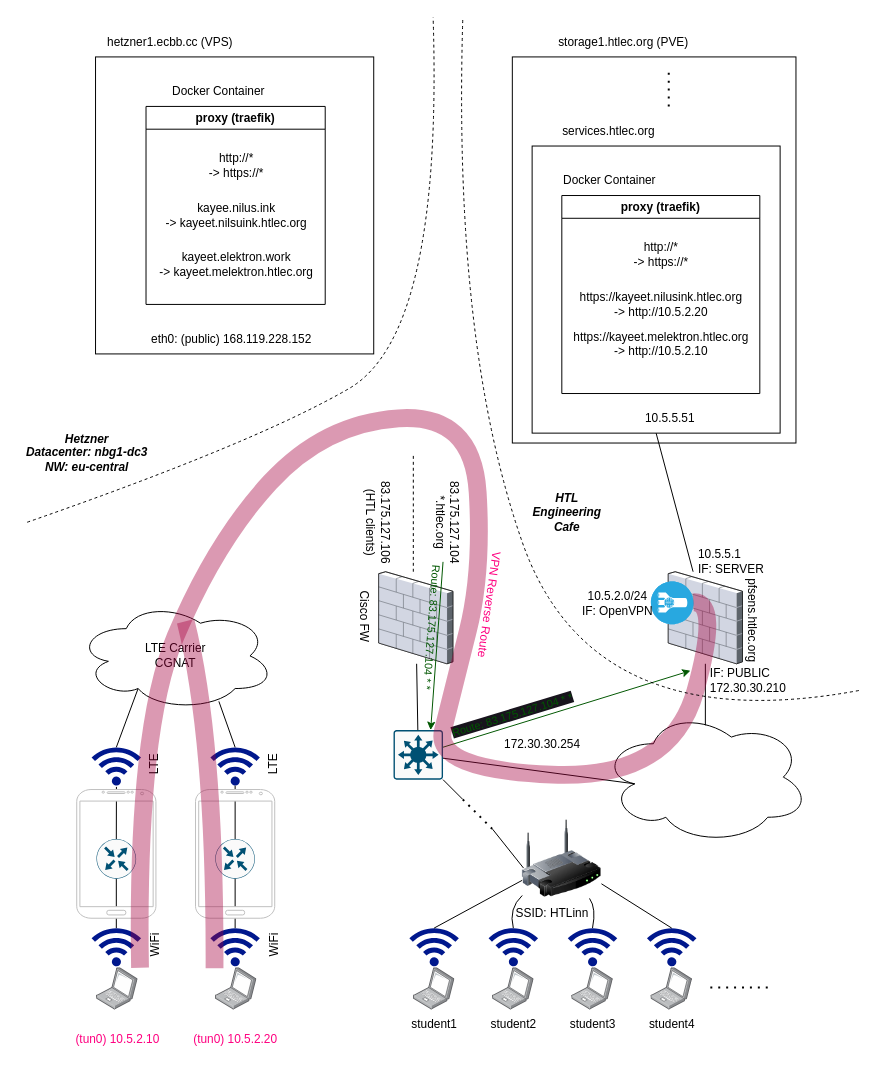
Image size: 876x1072. Some labels were removed from this diagram. Here are the shapes that lost their labels. From the top down, the centre of each, then its label:
At [418,754]: "Main L3".
At [704,776]: "Transfer Network 172.30.30.0/24".
At [117,988]: "elektronlab".
At [235,988]: "nilusink".
